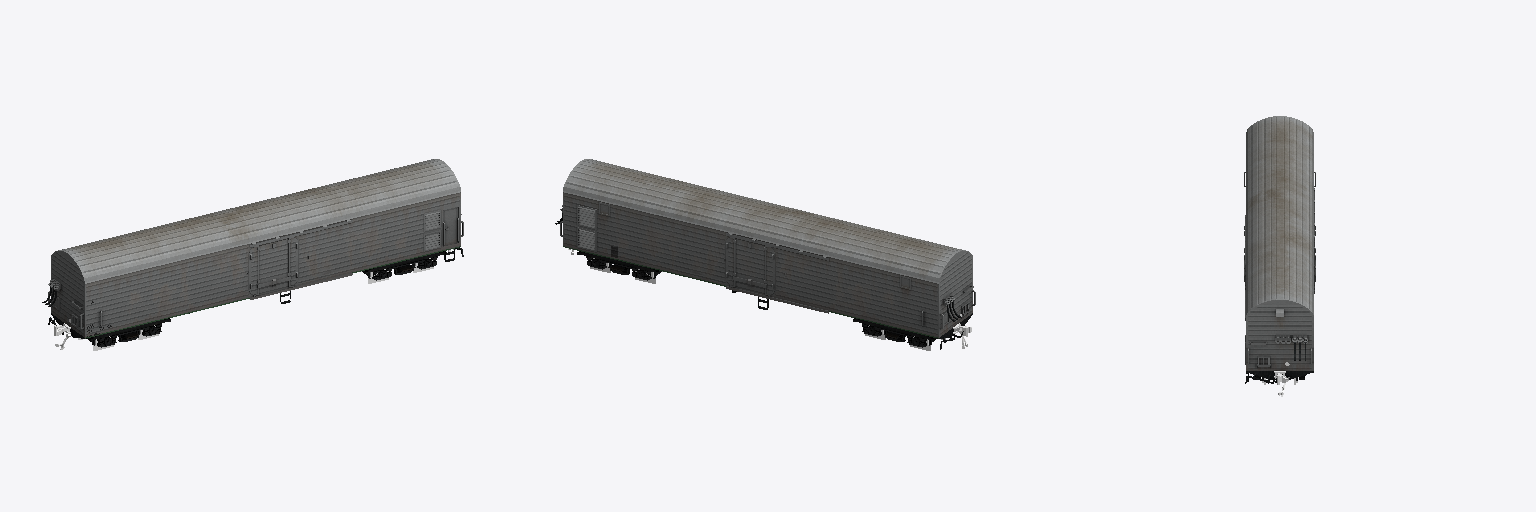
3 views of the same model, side by side, from view 1: azimuth 30°, elevation 25°; view 2: azimuth 150°, elevation 25°; view 3: azimuth 270°, elevation 25° (orthographic).
Parts seen in each view (by area): view 1: FRAME_2_mvp_bmz_16-3000, BOGEY_FRONT_mvp_bmz_16-3000, BOGEY_REAR_mvp_bmz_16-3000; view 2: FRAME_2_mvp_bmz_16-3000, BOGEY_FRONT_mvp_bmz_16-3000, BOGEY_REAR_mvp_bmz_16-3000; view 3: FRAME_2_mvp_bmz_16-3000.
Boxes of the visible parts, x1,y1,x2,y2 form: FRAME_2_mvp_bmz_16-3000: [48, 159, 463, 338]; BOGEY_FRONT_mvp_bmz_16-3000: [86, 318, 170, 347]; BOGEY_REAR_mvp_bmz_16-3000: [362, 251, 446, 280]; FRAME_2_mvp_bmz_16-3000: [560, 159, 975, 342]; BOGEY_FRONT_mvp_bmz_16-3000: [853, 318, 937, 347]; BOGEY_REAR_mvp_bmz_16-3000: [577, 251, 661, 280]; FRAME_2_mvp_bmz_16-3000: [1244, 116, 1315, 384].
Bounding box in the file's own units: 22.44 × 5.13 × 3.5.
5 materials, 3 textured.